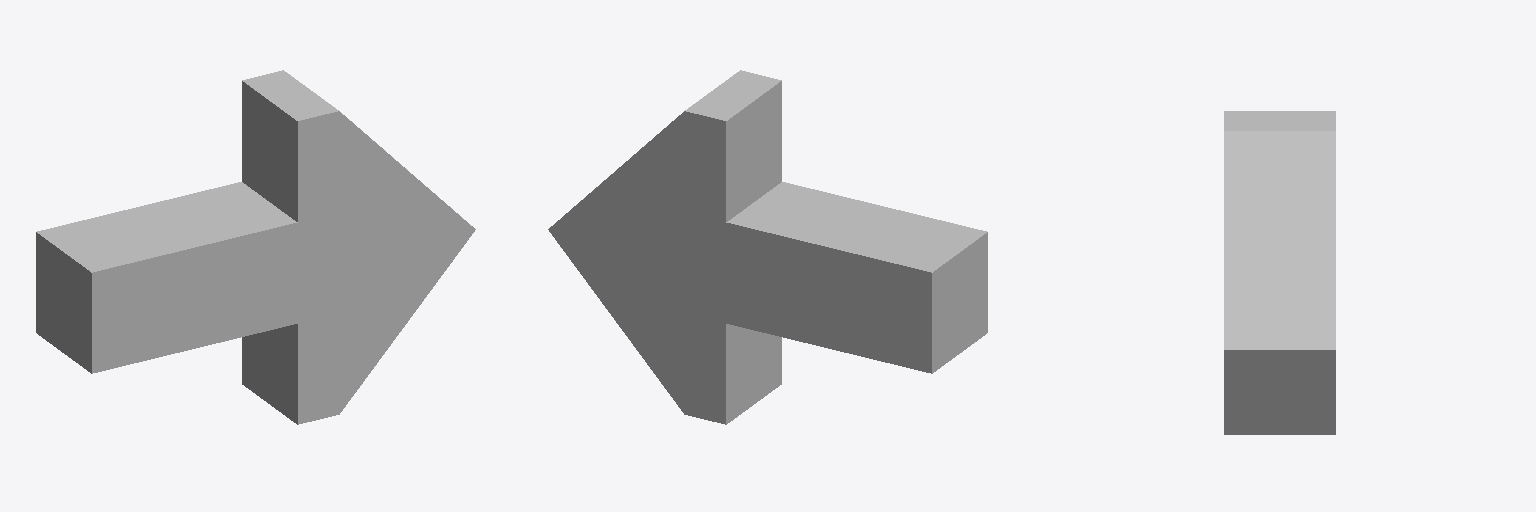
Rendered from Arrow.obj.
3 renders of one model, left to right at view 1: azimuth 30°, elevation 25°; view 2: azimuth 150°, elevation 25°; view 3: azimuth 270°, elevation 25°, orthographic.
Visible parts, largest first — view 1: pCube1; view 2: pCube1; view 3: pCube1.
Boxes of the visible parts, x1,y1,x2,y2 form: pCube1: [36, 70, 475, 424]; pCube1: [548, 70, 987, 424]; pCube1: [1224, 111, 1335, 434].
Bounding box in the file's own units: 3.97 × 3 × 1.